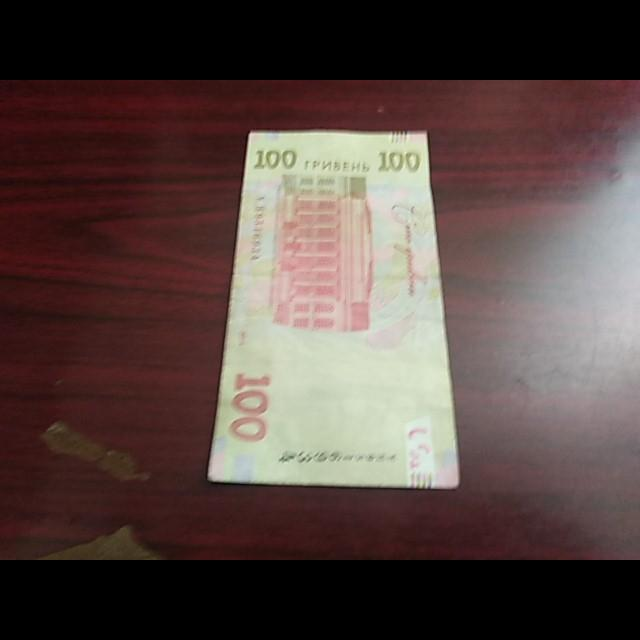100uah: (240, 129, 434, 493)
